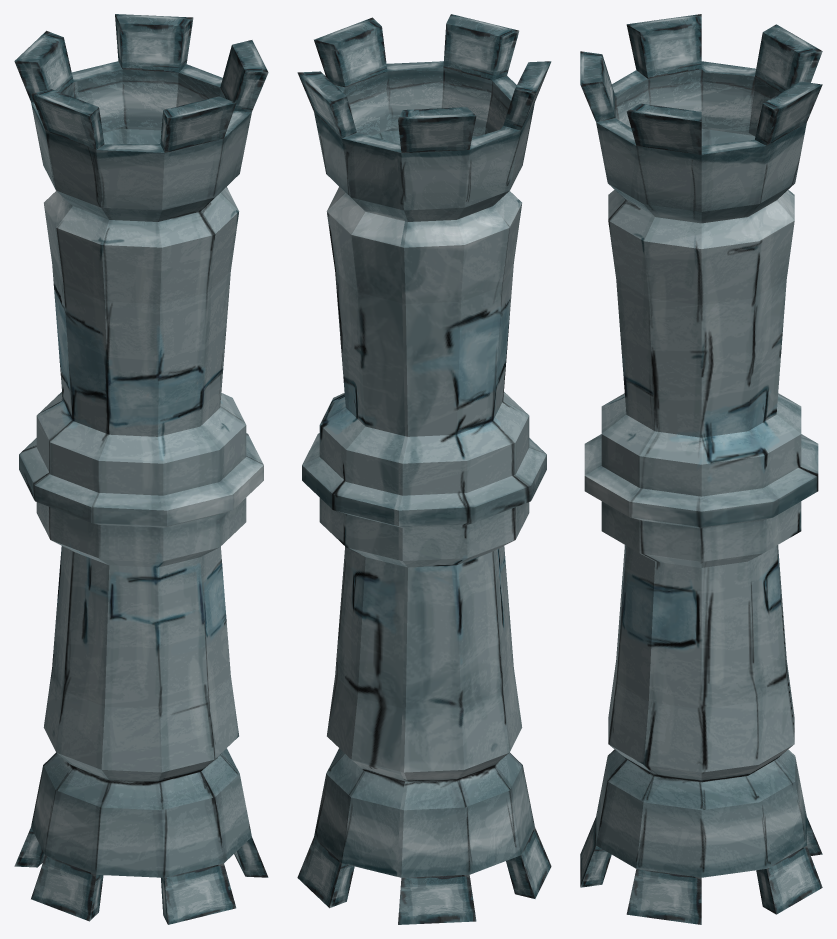
The model's file is middle-tower.fbx.
The picture shows the model from 3 angles, left to right: view 1: azimuth 30°, elevation 25°; view 2: azimuth 150°, elevation 25°; view 3: azimuth 270°, elevation 25°; orthographic projection.
Parts seen in each view (by area): view 1: lowpoly_pillar; view 2: lowpoly_pillar; view 3: lowpoly_pillar.
Part boxes in pixels (x1,y1,x2,y2): lowpoly_pillar: (14,14,268,924); lowpoly_pillar: (297,14,551,924); lowpoly_pillar: (580,14,822,924).
Size of the model in its own units: 524 by 1821 by 498.
